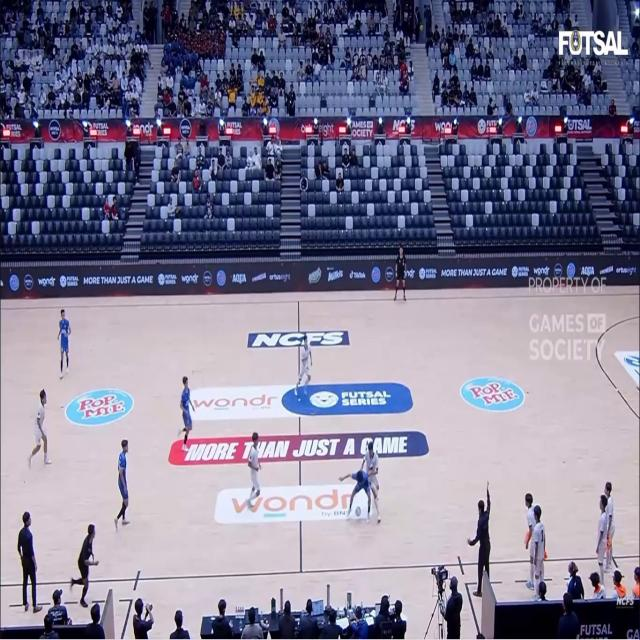referee: (71, 525, 98, 607), (394, 246, 406, 300)
